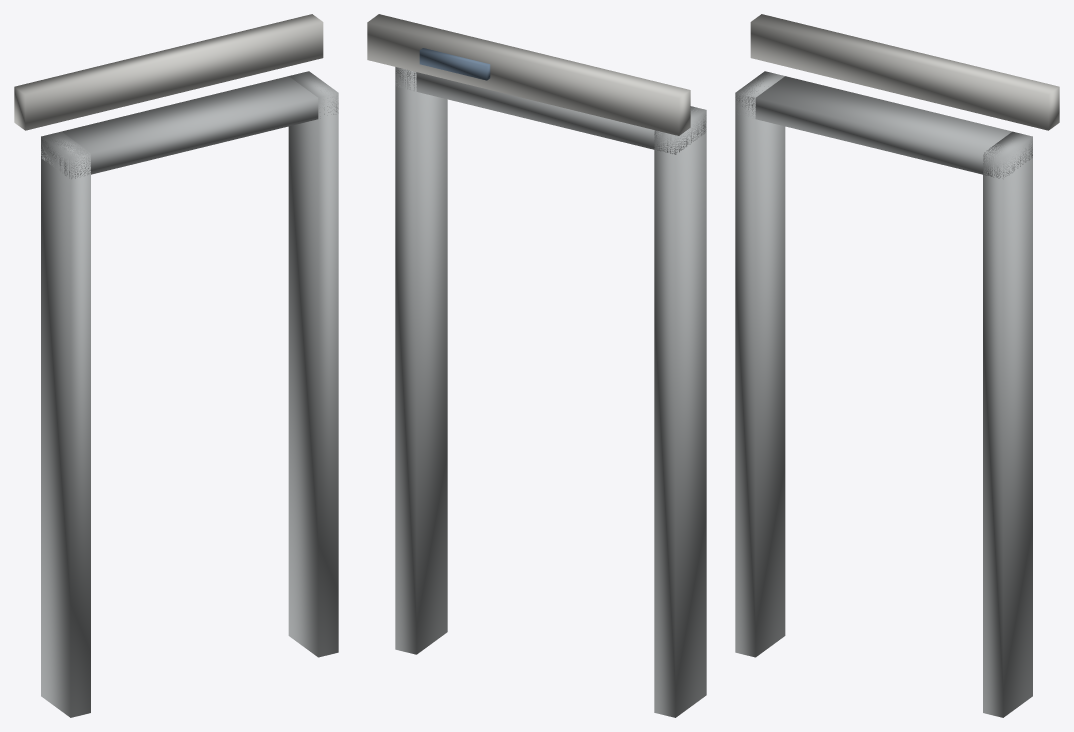
The model's file is doorway_hospital_w106_h240_d24.glb.
The picture shows the model from 3 angles, left to right: view 1: azimuth 30°, elevation 25°; view 2: azimuth 150°, elevation 25°; view 3: azimuth 330°, elevation 25°; orthographic projection. The views are drawn at different scales.
Visible parts, largest first — view 1: world; view 2: world; view 3: world.
Part boxes in pixels (left/top/right/bottom): world: left=14, top=14, right=338, bottom=717; world: left=367, top=14, right=706, bottom=717; world: left=735, top=14, right=1059, bottom=717.
Bounding box in the file's own units: 1.39 × 2.7 × 0.36.
